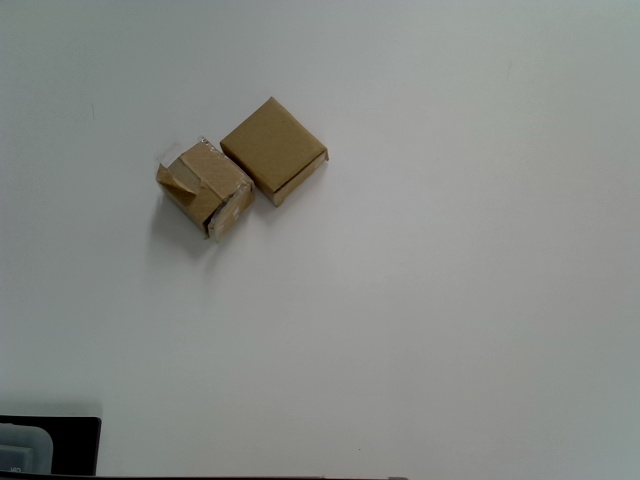defect: (154, 137, 252, 240)
normal: (220, 98, 328, 206)
